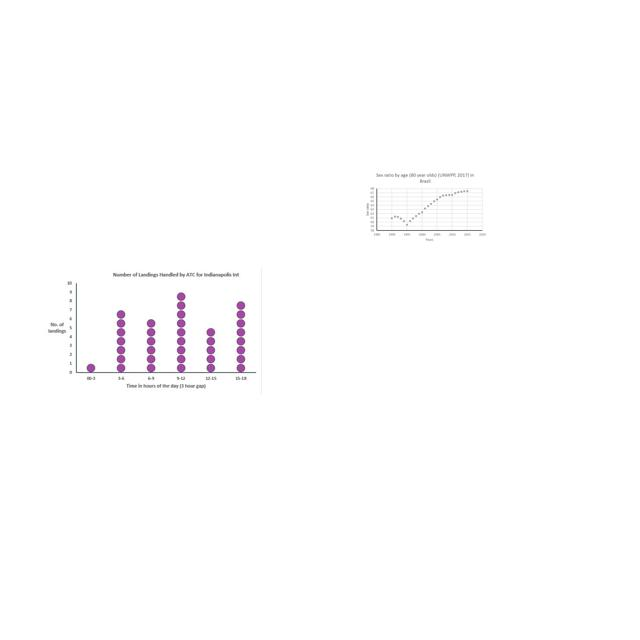Graph: (42, 267, 262, 394), (362, 171, 488, 243)
